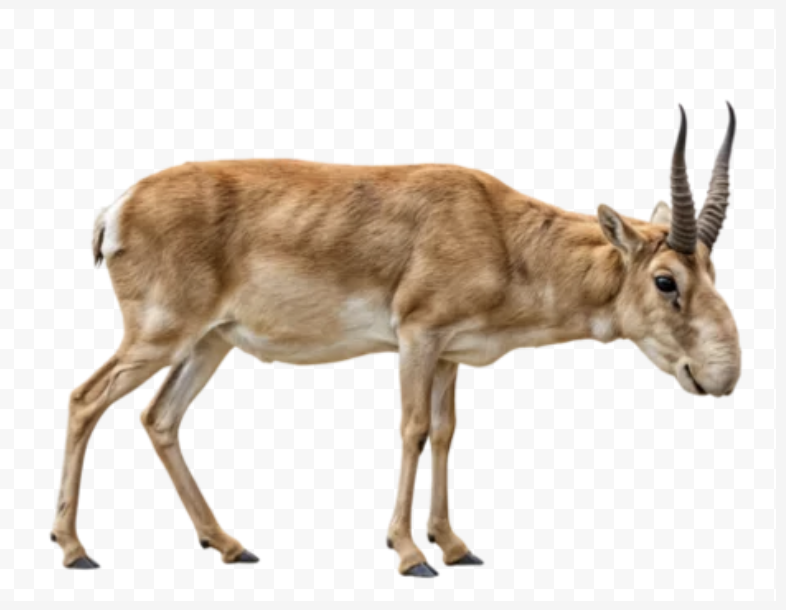saiga: (63, 103, 763, 579)
